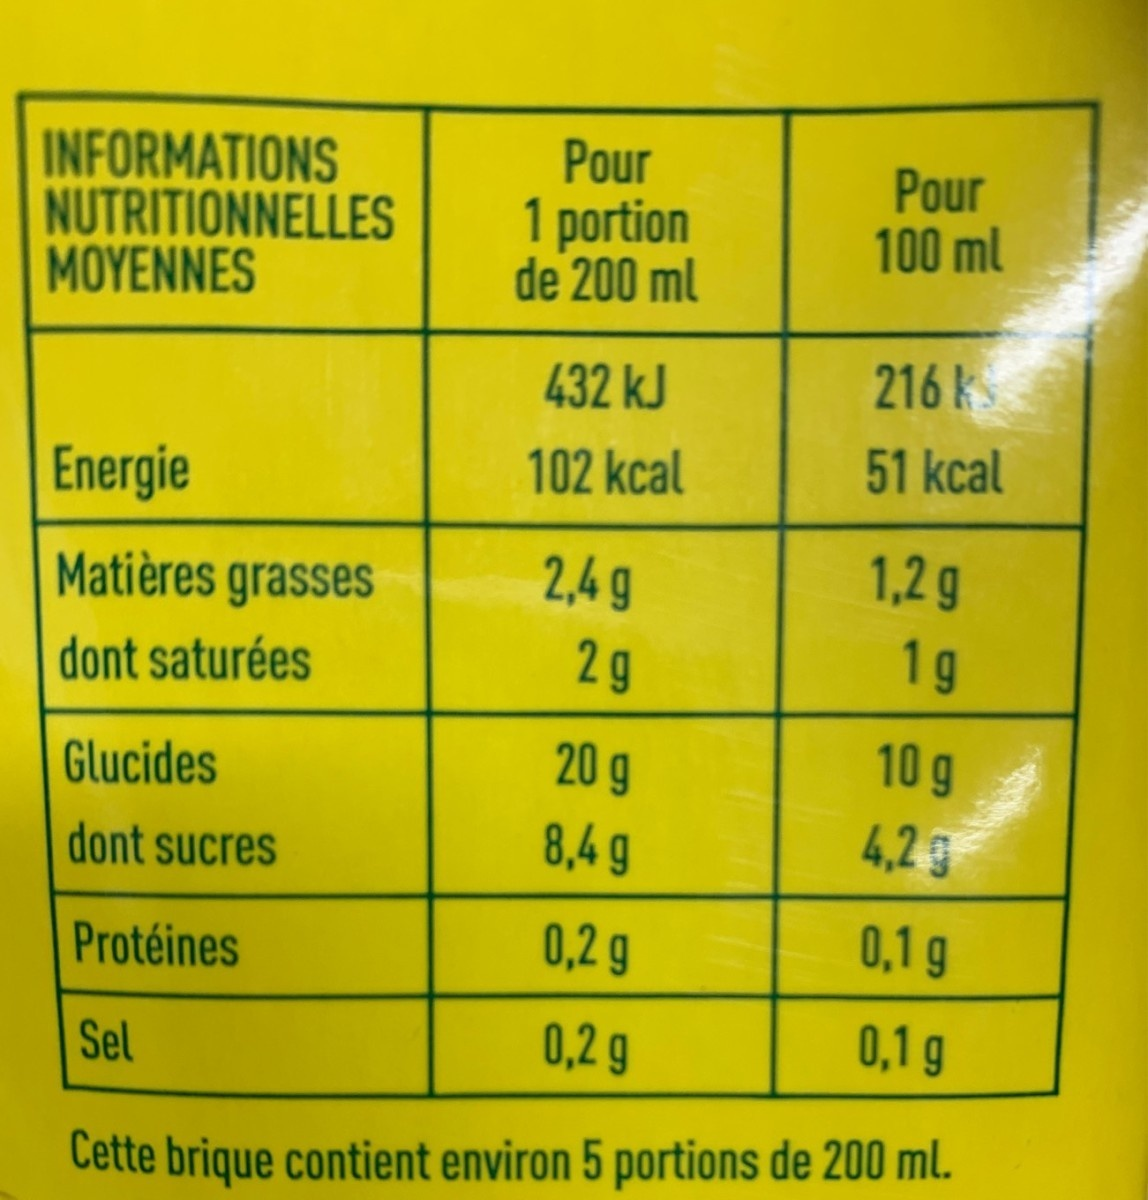column: (38, 126, 402, 1077), (504, 127, 704, 1081), (855, 127, 1002, 1090)
table: (11, 88, 1091, 1101)
